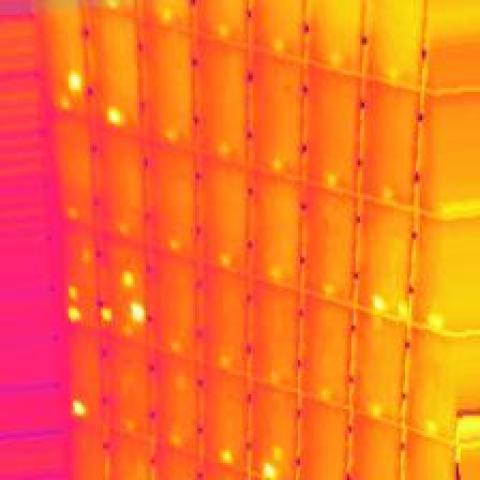fault: (424, 302, 446, 337), (116, 264, 139, 294), (122, 298, 148, 323), (103, 103, 128, 128), (212, 246, 238, 270), (261, 259, 285, 285), (64, 66, 84, 96), (369, 289, 390, 317), (317, 277, 339, 302), (66, 394, 88, 418), (418, 414, 439, 439), (266, 441, 289, 463), (54, 96, 79, 116), (319, 169, 341, 191), (313, 383, 336, 403), (214, 448, 238, 467), (167, 426, 187, 448), (257, 460, 278, 480), (165, 334, 184, 356), (266, 152, 283, 176), (64, 304, 84, 324), (364, 398, 384, 418), (98, 302, 114, 326), (75, 248, 94, 268), (64, 281, 80, 300)
